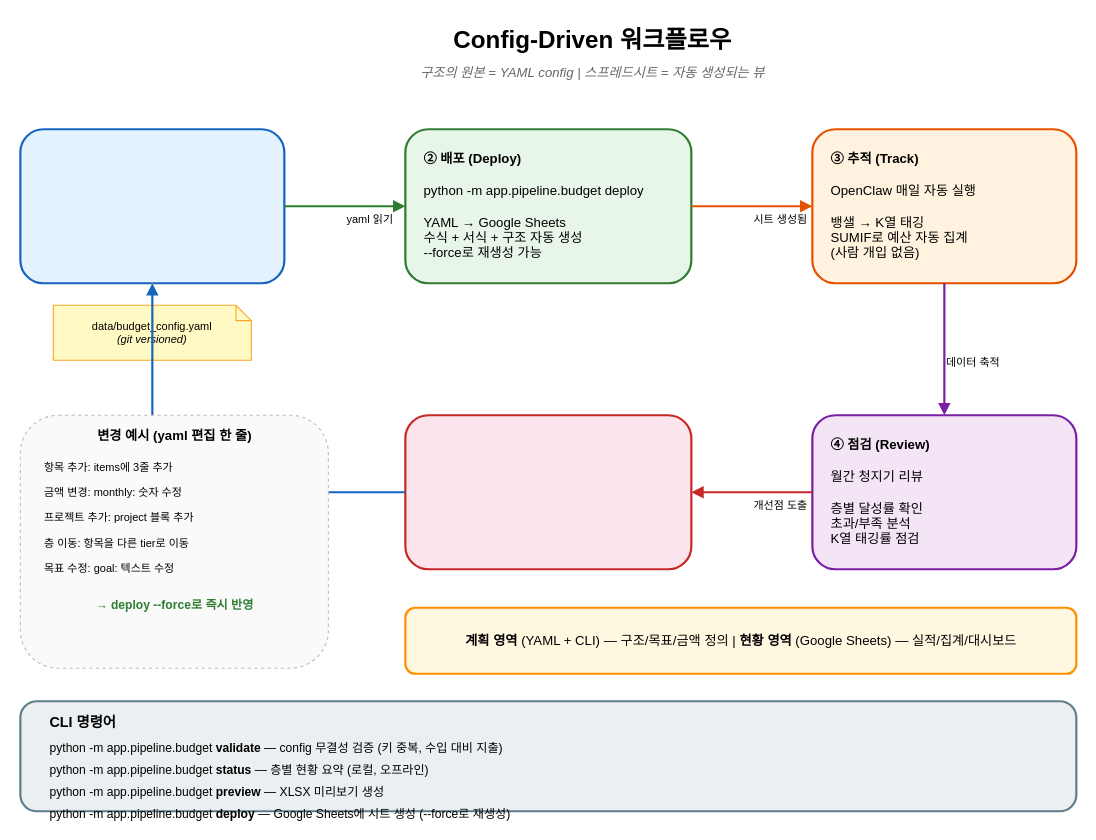
Some shapes in this 1096 by 840 pixel diagram are drawn without their labels. Each missing label, with the centre of its shape:
① 계획/수정 (Plan) budget_config.yaml 편집 프로젝트 추가/삭제 예산 금액 조정 목표(goal) 설정: point 152,206
⑤ 조정 (Adjust) 리뷰 결과 기반 config 수정 "식비 예산 올리자" "새 프로젝트 추가하자" → ①로 돌아감: point 548,492
